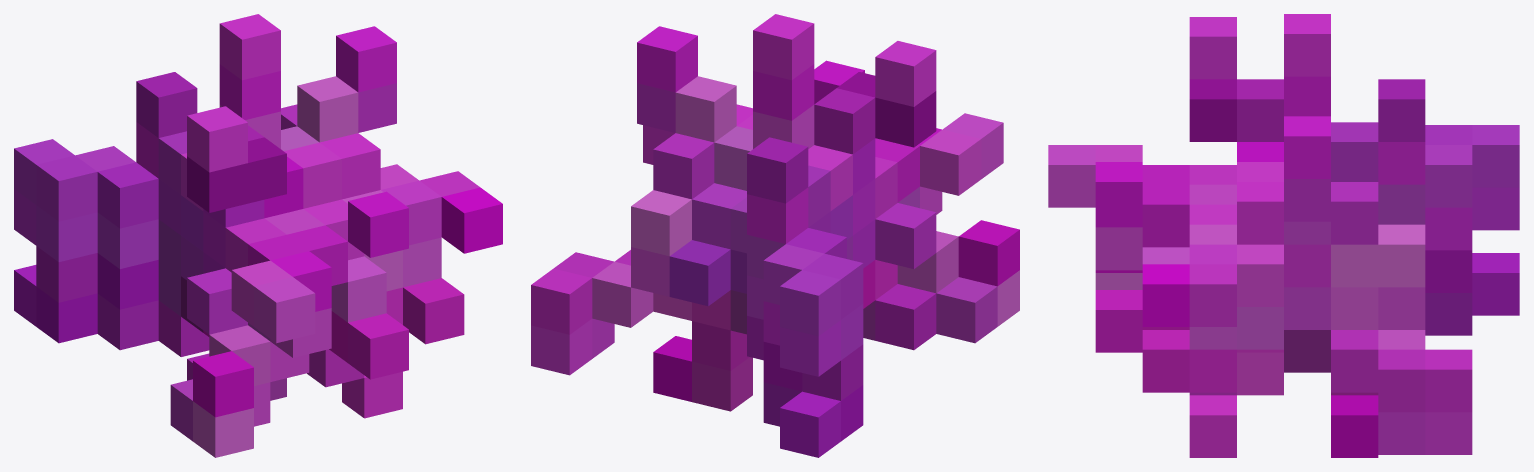
Rendered from impact_explosion_no__0305031045.glb.
The picture shows the model from 3 angles, left to right: view 1: azimuth 30°, elevation 25°; view 2: azimuth 150°, elevation 25°; view 3: azimuth 270°, elevation 25°; orthographic projection. The views are drawn at different scales.
Bounding box in the file's own units: 1.53 × 1.72 × 1.91.
